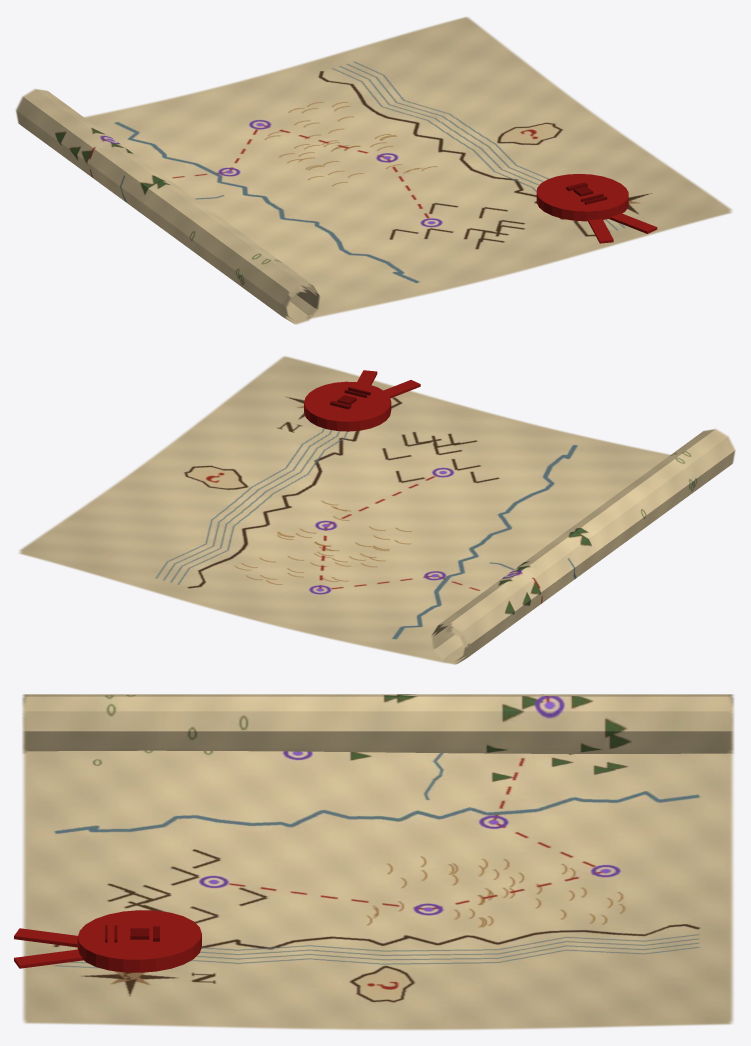
File: reisekarte.glb
3 renders of one model, top to bottom at view 1: azimuth 30°, elevation 25°; view 2: azimuth 150°, elevation 25°; view 3: azimuth 270°, elevation 25°, orthographic. The views are drawn at different scales.
Visible parts, largest first — view 1: reisekarte; view 2: reisekarte; view 3: reisekarte.
Part boxes in pixels (x1=…): reisekarte: x1=15, y1=16, x2=732, y2=324; reisekarte: x1=19, y1=356, x2=735, y2=664; reisekarte: x1=14, y1=694, x2=734, y2=1030.
Size of the model in its own units: 0.2922 by 0.0291 by 0.3027.
Materials: 3 (1 with a texture image).
